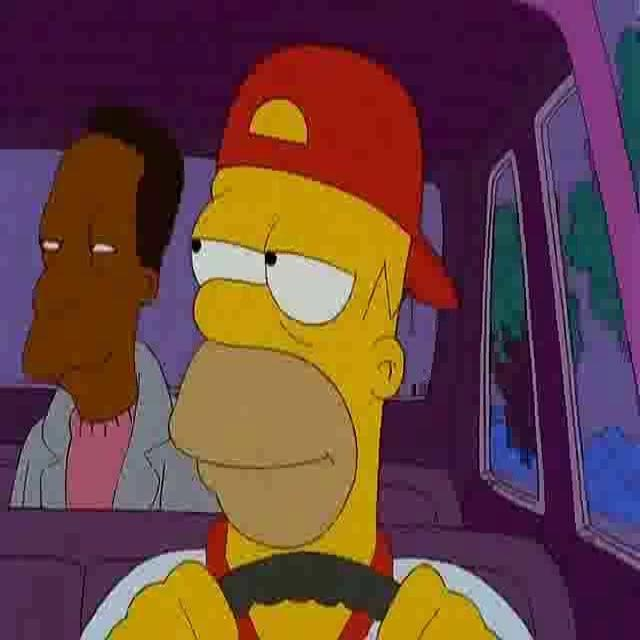Homer Simpson: (166, 46, 428, 566)
